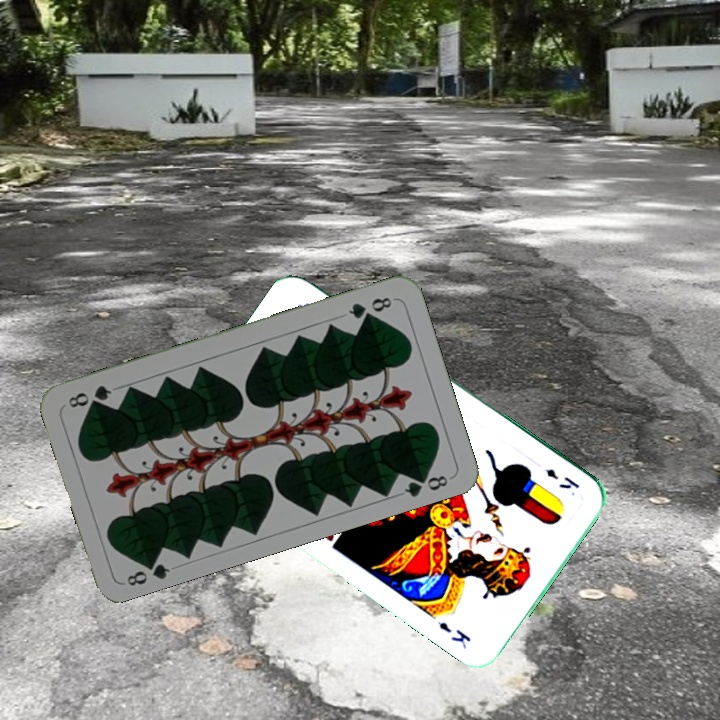EK: (542, 464, 583, 492)
G8: (122, 553, 173, 589), (344, 293, 395, 322)
